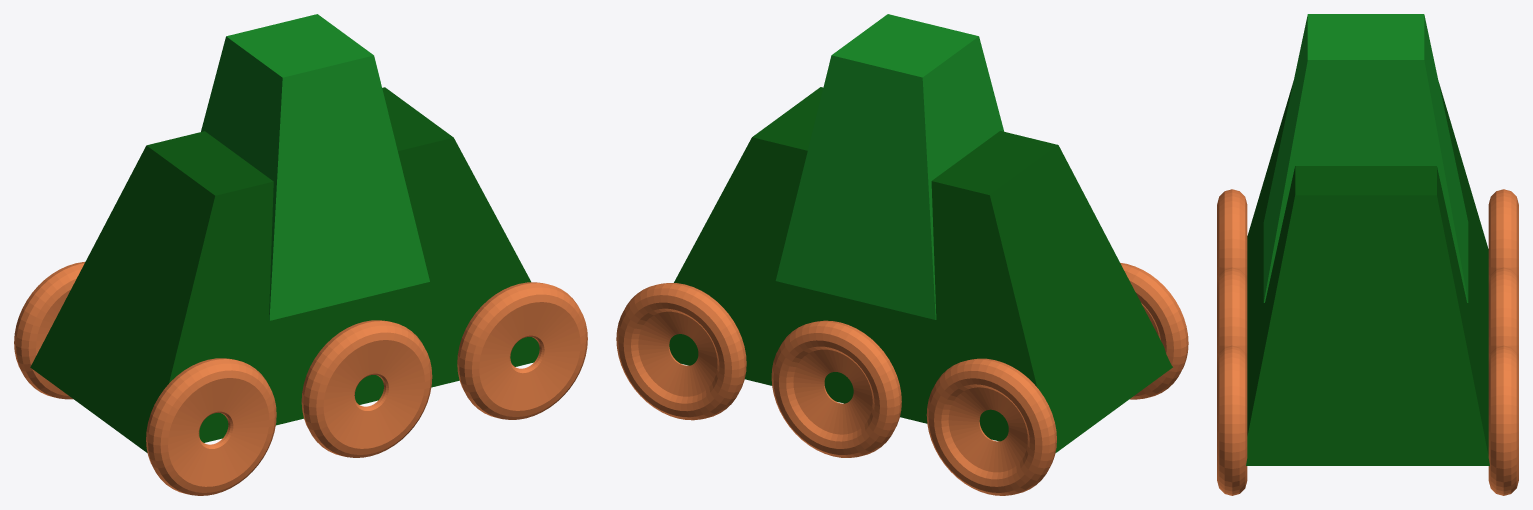
Rendered from player.glb.
3 views of the same model, side by side, from view 1: azimuth 30°, elevation 25°; view 2: azimuth 150°, elevation 25°; view 3: azimuth 270°, elevation 25° (orthographic). The views are drawn at different scales.
Visible parts, largest first — view 1: Cube, Cube.001, Torus.002, Torus.003, Torus.001, Torus.004; view 2: Cube, Cube.001, Torus.005, Torus.006, Torus.004, Torus.001; view 3: Cube, Cube.001, Torus.003, Torus.006, Torus.002, Torus.005, Torus.001, Torus.004.
Part boxes in pixels (box(x1,y1,x2,y2)): Cube: box(30, 87, 539, 452); Cube.001: box(201, 14, 429, 320); Torus.002: box(301, 320, 432, 457); Torus.003: box(457, 282, 587, 419); Torus.001: box(146, 358, 276, 495); Torus.004: box(14, 262, 84, 399); Cube: box(669, 87, 1172, 453); Cube.001: box(775, 14, 1003, 319); Torus.005: box(771, 320, 901, 457); Torus.006: box(616, 283, 746, 420); Torus.004: box(926, 358, 1056, 495); Torus.001: box(1120, 262, 1188, 399); Cube: box(1246, 81, 1489, 465); Cube.001: box(1263, 14, 1468, 302); Torus.003: box(1217, 345, 1247, 495); Torus.006: box(1488, 345, 1518, 495); Torus.002: box(1217, 267, 1247, 360); Torus.005: box(1488, 267, 1518, 360); Torus.001: box(1217, 189, 1247, 281); Torus.004: box(1488, 189, 1518, 281).
Size of the model in its own units: 1.12 by 0.8849 by 0.6487.
